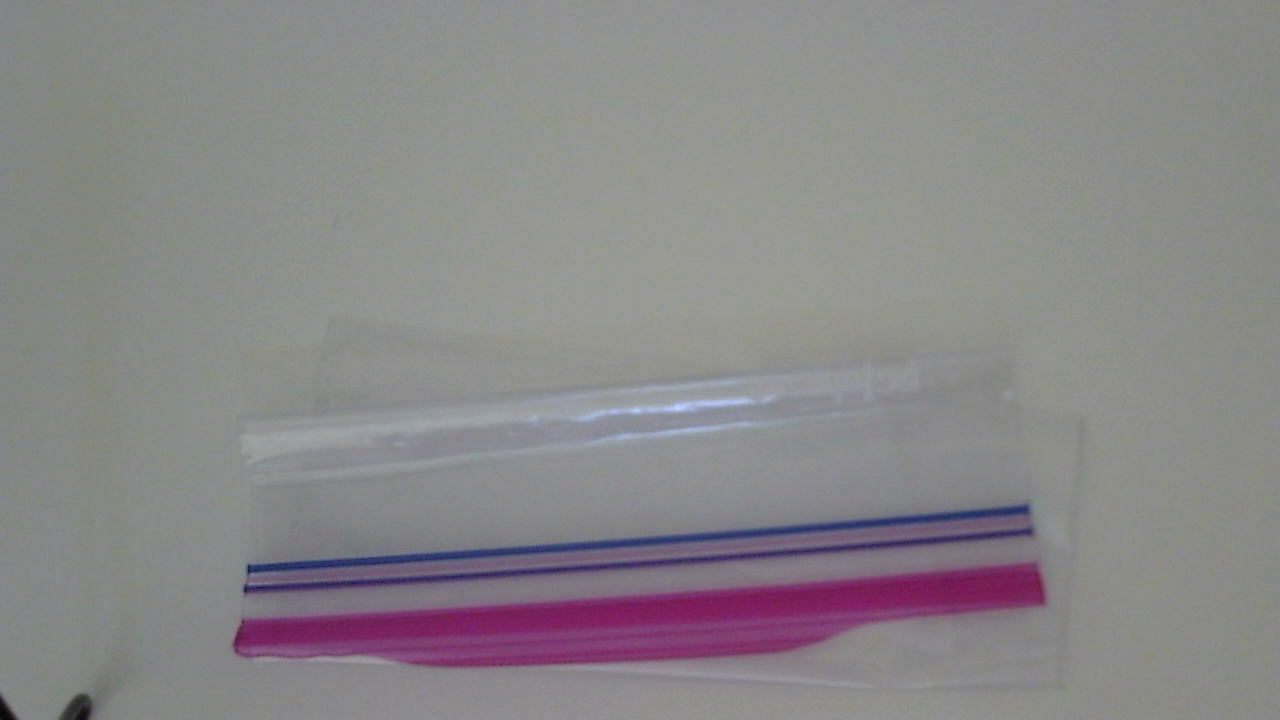Plastic Bag: (230, 281, 1097, 720)
